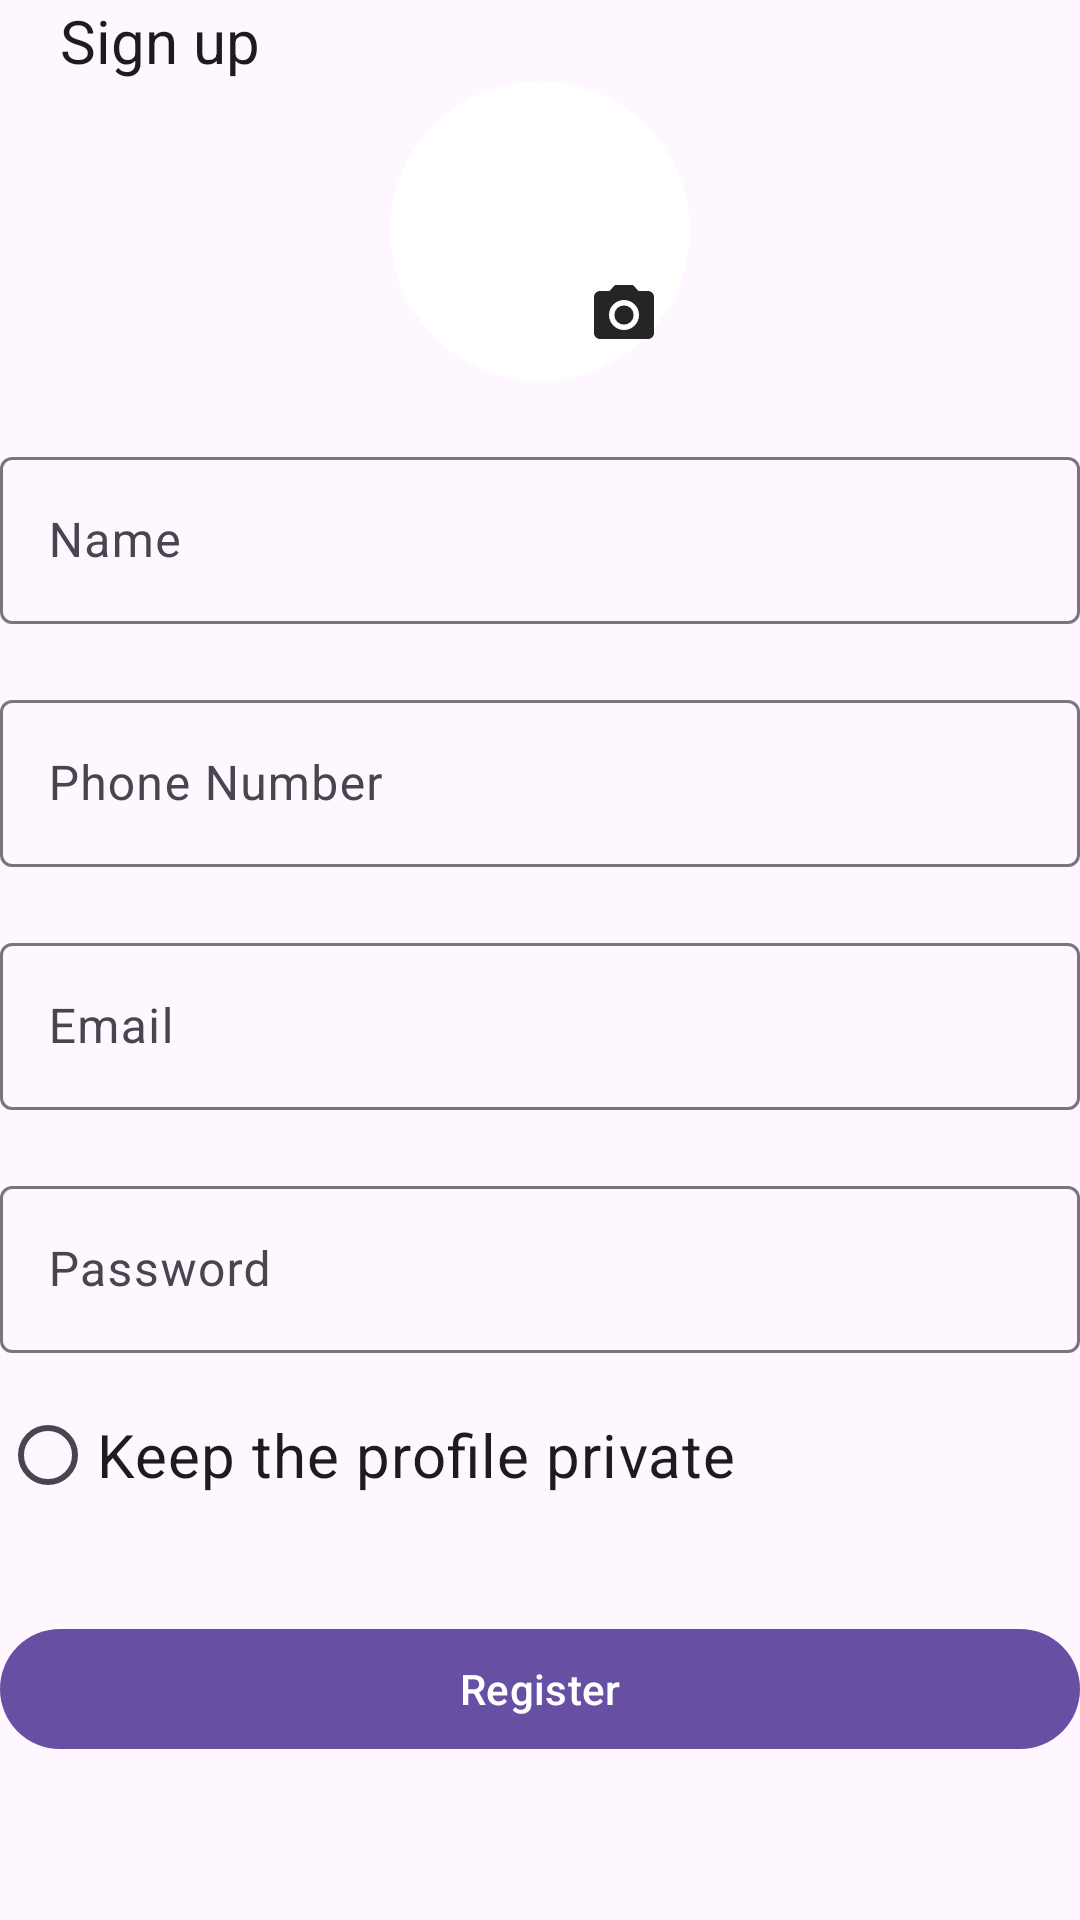

Where icons sit on this 1080 × 1920 app screen, as (x1, y1, x2, y2):
photo camera: (594, 285, 654, 339)
